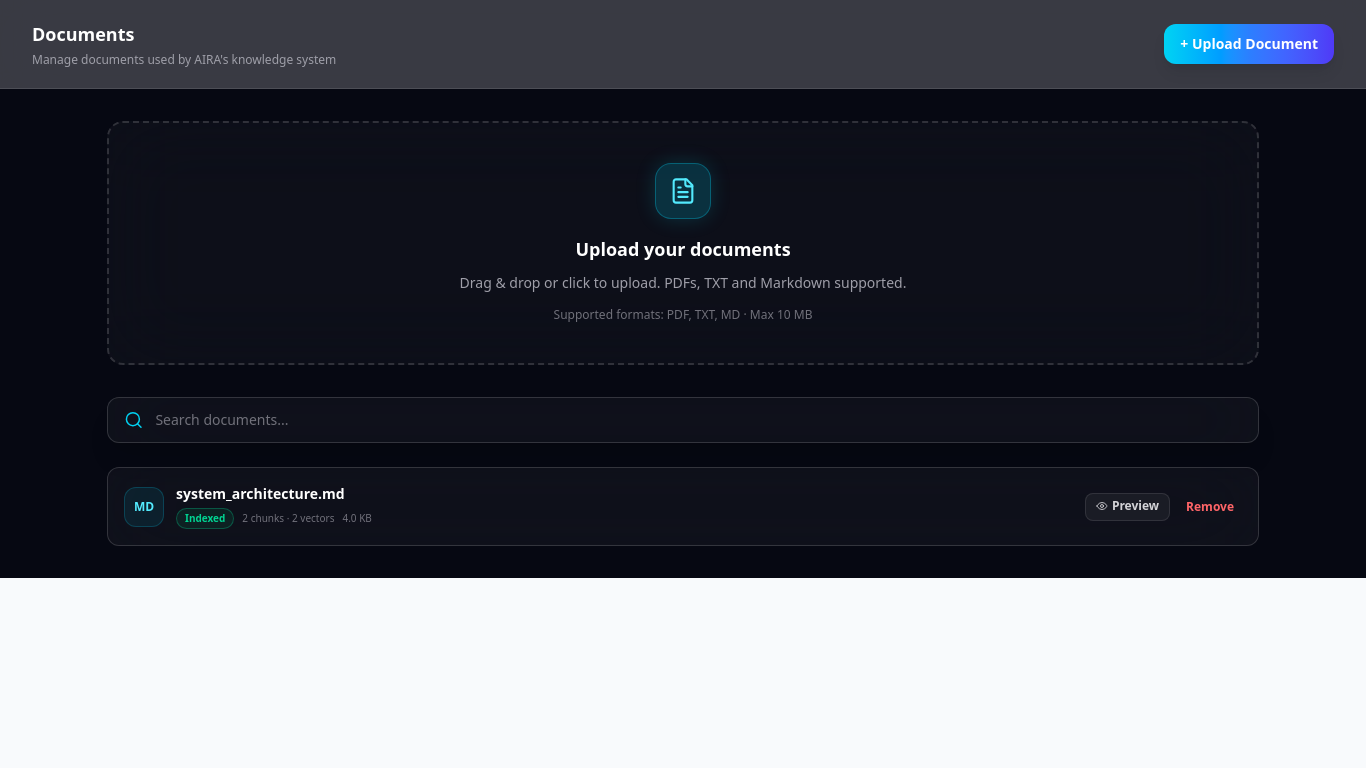
Test: DocumentsPage — Remove button › shows a confirmation dialog when Remove is clicked
Expected: the heading "system_architecture.md" is shown, [176,484,372,504]
# Click Remove
Click the button with aria-label "Remove system_architecture.md": point(1210, 506) [1178,494,1242,518]
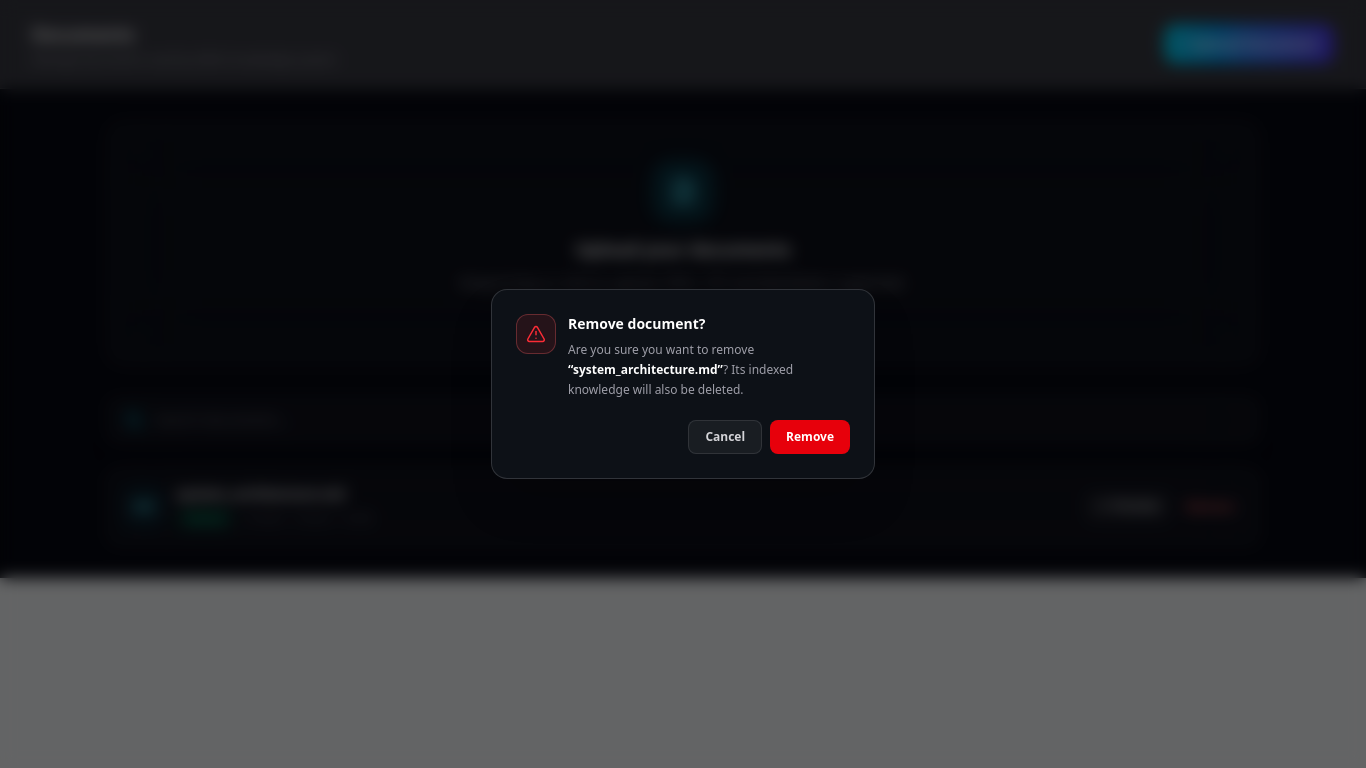
Result: the dialog is shown
Result: the text "Are you sure you want to remove" is shown at [568,341,754,358]
Result: the text "Its indexed knowledge will also be deleted" is shown at [568,361,793,398]
